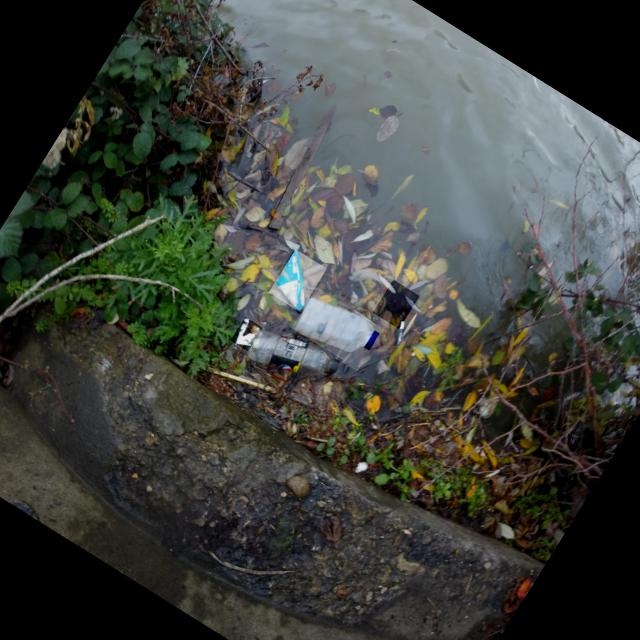Bottle cap: (365, 331, 376, 349)
Clear plastic bottle: (293, 297, 376, 351), (246, 329, 339, 376)
Crisp packet: (275, 249, 304, 311)
Unlabeled litter: (234, 319, 255, 346), (392, 280, 401, 329), (394, 328, 400, 345), (401, 320, 404, 329)
